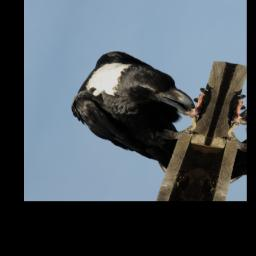Crow: (53, 43, 219, 176)
